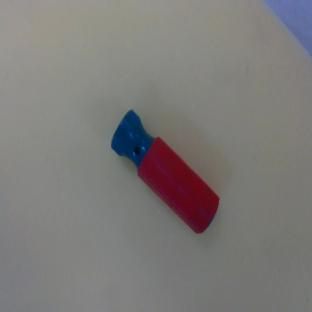part_2_good: (101, 108, 229, 236)
